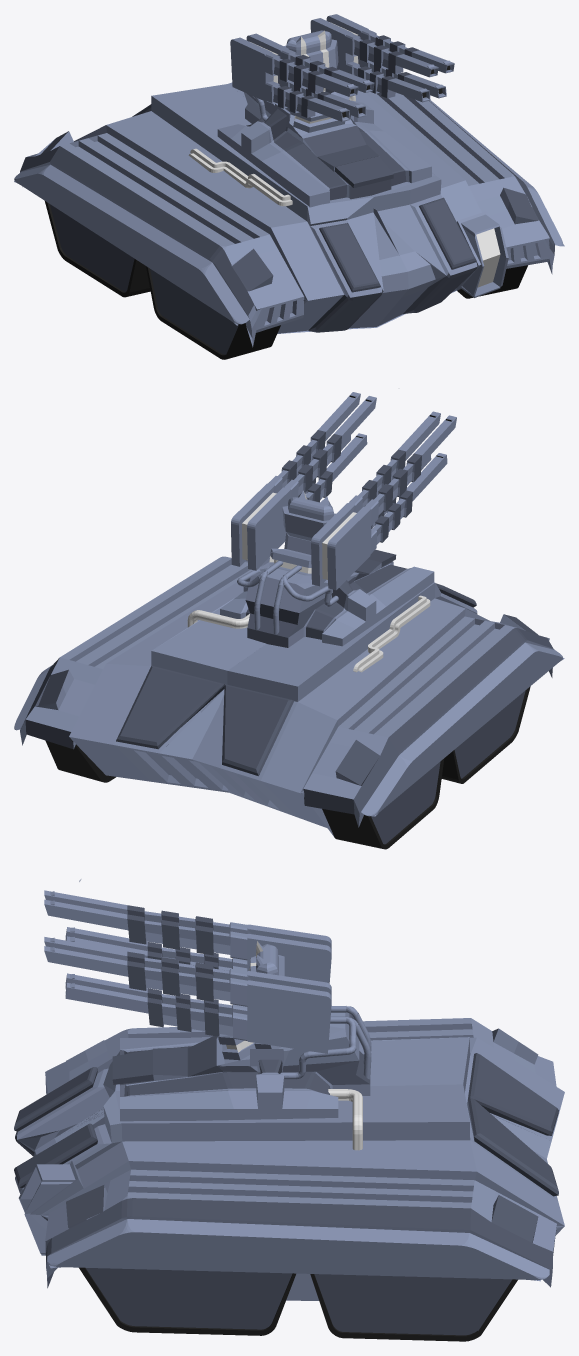
File: ArtillaryTank.fbx
3 views of the same model, one above another, from view 1: azimuth 30°, elevation 25°; view 2: azimuth 150°, elevation 25°; view 3: azimuth 270°, elevation 25° (orthographic). The views are drawn at different scales.
Parts seen in each view (by area): view 1: Tank; view 2: Tank; view 3: Tank.
Boxes of the visible parts, x1,y1,x2,y2 form: Tank: (14, 14, 564, 359); Tank: (14, 392, 564, 849); Tank: (14, 879, 564, 1341).
Size of the model in its own units: 1256 by 991 by 1365.
